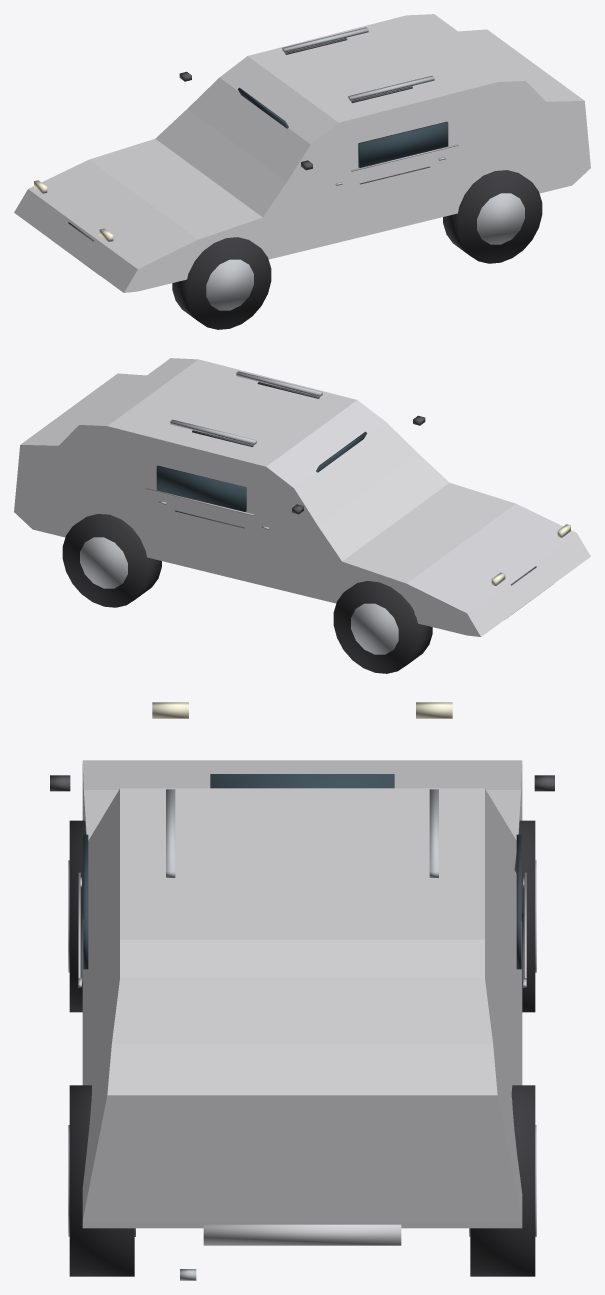
Rendered from suv-luxury.glb.
The picture shows the model from 3 angles, top to bottom: view 1: azimuth 30°, elevation 25°; view 2: azimuth 150°, elevation 25°; view 3: azimuth 270°, elevation 25°; orthographic projection. The views are drawn at different scales.
Parts seen in each view (by area): view 1: body_main, wheel_rear_r, wheel_front_r, glass_side_r, trim_rim__front_r, trim_rim__rear_r, trim_rail_l, trim_rail_r; view 2: body_main, wheel_rear_l, wheel_front_l, glass_side_l, trim_rim__front_l, trim_rim__rear_l, trim_rail_r, trim_rail_l; view 3: body_main, wheel_rear_l, wheel_rear_r, body_bumper_rear, glass_windshield, wheel_front_l, wheel_front_r, trim_rail_l, trim_rail_r, glass_side_l, glass_side_r.
Part boxes in pixels (x1,y1,x2,y2): body_main: (14, 14, 590, 292); wheel_rear_r: (443, 170, 542, 263); wheel_front_r: (172, 237, 271, 329); glass_side_r: (358, 121, 448, 167); trim_rim__front_r: (206, 259, 253, 310); trim_rim__rear_r: (477, 193, 524, 244); trim_rail_l: (282, 27, 368, 52); trim_rail_r: (348, 75, 434, 100); body_main: (14, 358, 590, 636); wheel_rear_l: (62, 514, 161, 607); wheel_front_l: (333, 581, 432, 673); glass_side_l: (156, 465, 246, 511); trim_rim__front_l: (351, 603, 398, 654); trim_rim__rear_l: (80, 537, 127, 588); trim_rail_r: (236, 371, 322, 396); trim_rail_l: (170, 419, 256, 444); body_main: (82, 760, 522, 1228); wheel_rear_l: (470, 1085, 535, 1276); wheel_rear_r: (69, 1085, 134, 1276); body_bumper_rear: (203, 1224, 401, 1245); glass_windshield: (210, 774, 394, 788); wheel_front_l: (514, 820, 535, 1012); wheel_front_r: (69, 820, 85, 1012); trim_rail_l: (429, 789, 438, 877); trim_rail_r: (166, 789, 175, 877); glass_side_l: (516, 834, 521, 969); glass_side_r: (83, 834, 88, 969).
Size of the model in its own units: 5.35 by 1.93 by 2.48.
